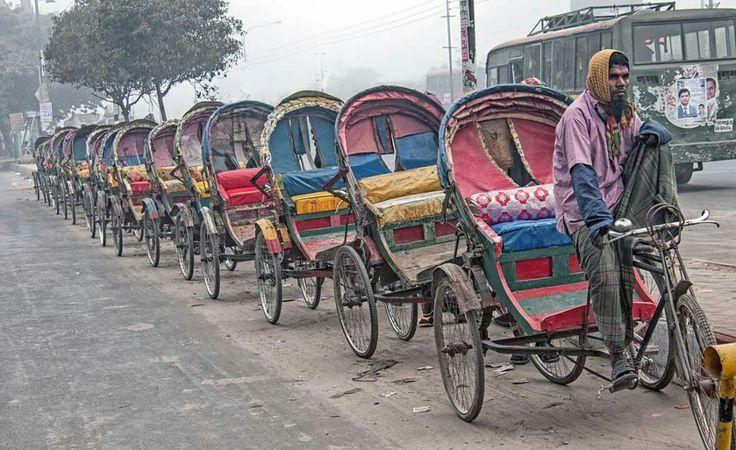Rickshaw: (431, 85, 607, 420), (333, 86, 457, 357), (255, 91, 353, 323), (199, 101, 277, 297), (167, 101, 222, 279), (144, 119, 190, 266), (109, 119, 155, 255), (94, 123, 126, 246), (61, 125, 96, 223), (82, 125, 111, 237), (45, 127, 75, 218), (32, 136, 50, 202)
